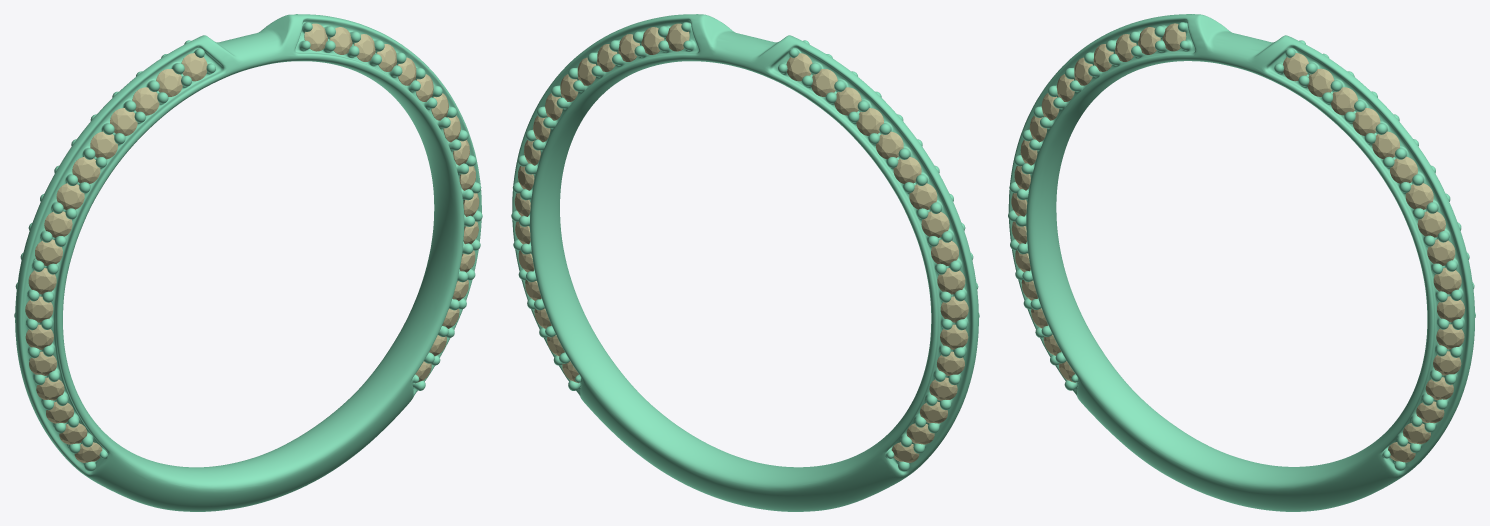
The picture shows the model from 3 angles, left to right: view 1: azimuth 30°, elevation 25°; view 2: azimuth 150°, elevation 25°; view 3: azimuth 330°, elevation 25°; orthographic projection.
Visible parts, largest first — view 1: Metal02, Diamond_Gem.061, Diamond_Gem.062, Diamond_Gem.063, Diamond_Gem.064, Diamond_Gem.065, Diamond_Gem.060, Diamond_Gem.066, Diamond_Gem.059, Diamond_Gem.067, Diamond_Gem.058, Diamond_Gem.057; view 2: Metal02, Diamond_Gem.040, Diamond_Gem.038, Diamond_Gem.037, Diamond_Gem.039, Diamond_Gem.036, Diamond_Gem.041, Diamond_Gem.042, Diamond_Gem.035, Diamond_Gem.034, Diamond_Gem.043, Diamond_Gem.044; view 3: Metal02, Diamond_Gem.006, Diamond_Gem.005, Diamond_Gem.003, Diamond_Gem.004, Diamond_Gem.007, Diamond_Gem.002, Diamond_Gem.001, Diamond_Gem.008, Diamond_Gem.009, Diamond_Gem, Diamond_Gem.010.
Boxes of the visible parts, x1,y1,x2,y2 form: Metal02: [14, 14, 482, 511]; Diamond_Gem.061: [56, 183, 84, 209]; Diamond_Gem.062: [72, 156, 100, 183]; Diamond_Gem.063: [90, 131, 117, 159]; Diamond_Gem.064: [110, 108, 137, 135]; Diamond_Gem.065: [132, 87, 159, 115]; Diamond_Gem.060: [44, 211, 72, 237]; Diamond_Gem.066: [156, 69, 182, 96]; Diamond_Gem.059: [35, 239, 62, 265]; Diamond_Gem.067: [181, 53, 207, 81]; Diamond_Gem.058: [28, 268, 56, 294]; Diamond_Gem.057: [25, 296, 53, 322]; Metal02: [511, 14, 979, 511]; Diamond_Gem.040: [909, 183, 937, 209]; Diamond_Gem.038: [876, 131, 903, 159]; Diamond_Gem.037: [856, 108, 883, 135]; Diamond_Gem.039: [893, 157, 921, 183]; Diamond_Gem.036: [834, 87, 861, 115]; Diamond_Gem.041: [921, 211, 949, 237]; Diamond_Gem.042: [931, 239, 958, 265]; Diamond_Gem.035: [811, 69, 837, 96]; Diamond_Gem.034: [786, 53, 812, 81]; Diamond_Gem.043: [937, 268, 965, 294]; Diamond_Gem.044: [940, 296, 968, 322]; Metal02: [1008, 14, 1475, 511]; Diamond_Gem.006: [1405, 183, 1433, 209]; Diamond_Gem.005: [1390, 156, 1417, 183]; Diamond_Gem.003: [1352, 108, 1380, 135]; Diamond_Gem.004: [1372, 131, 1399, 159]; Diamond_Gem.007: [1417, 211, 1445, 237]; Diamond_Gem.002: [1330, 87, 1357, 115]; Diamond_Gem.001: [1307, 68, 1334, 96]; Diamond_Gem.008: [1427, 239, 1455, 265]; Diamond_Gem.009: [1433, 267, 1461, 294]; Diamond_Gem: [1283, 53, 1308, 81]; Diamond_Gem.010: [1437, 296, 1464, 322].
Size of the model in its own units: 20.92 by 20.63 by 2.03.
